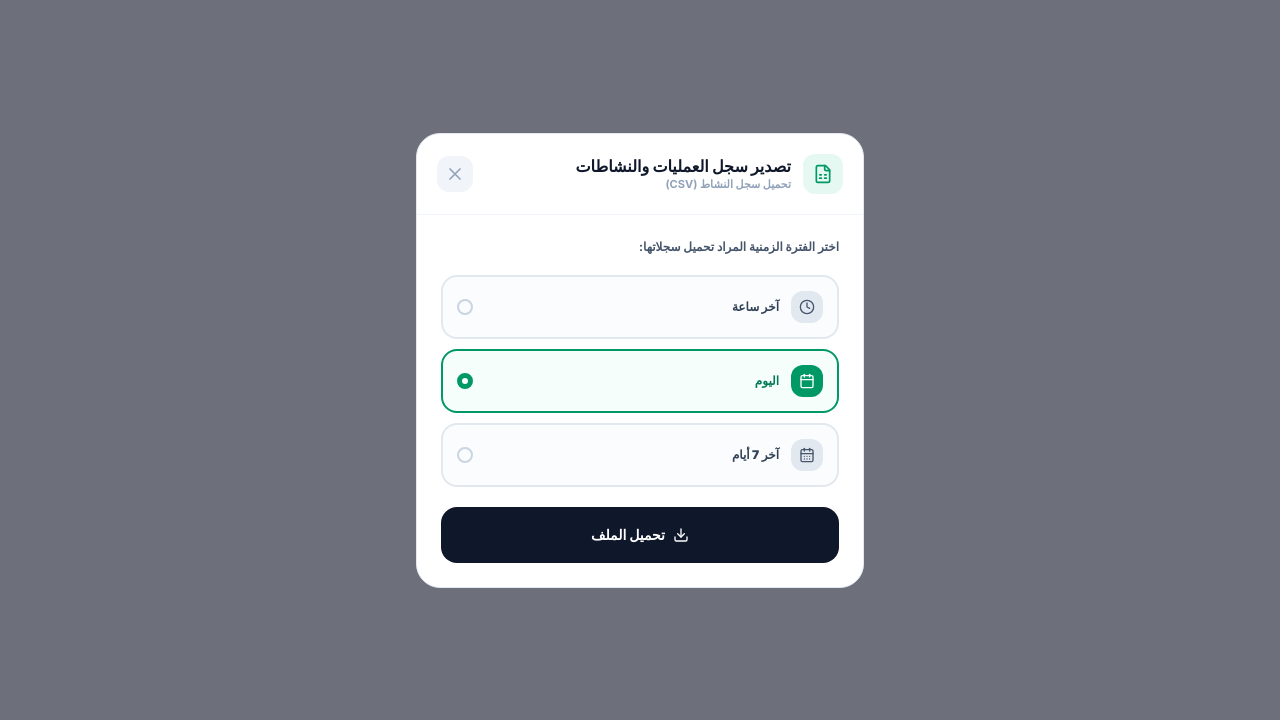
Test: ActivityLogExportModal Arabic-only export › exports active credit-grant activity with Arabic labels and filename
The image size is (1280, 720).
Click the button "تحميل الملف". click: [640, 534]
box: [441,506,839,562]
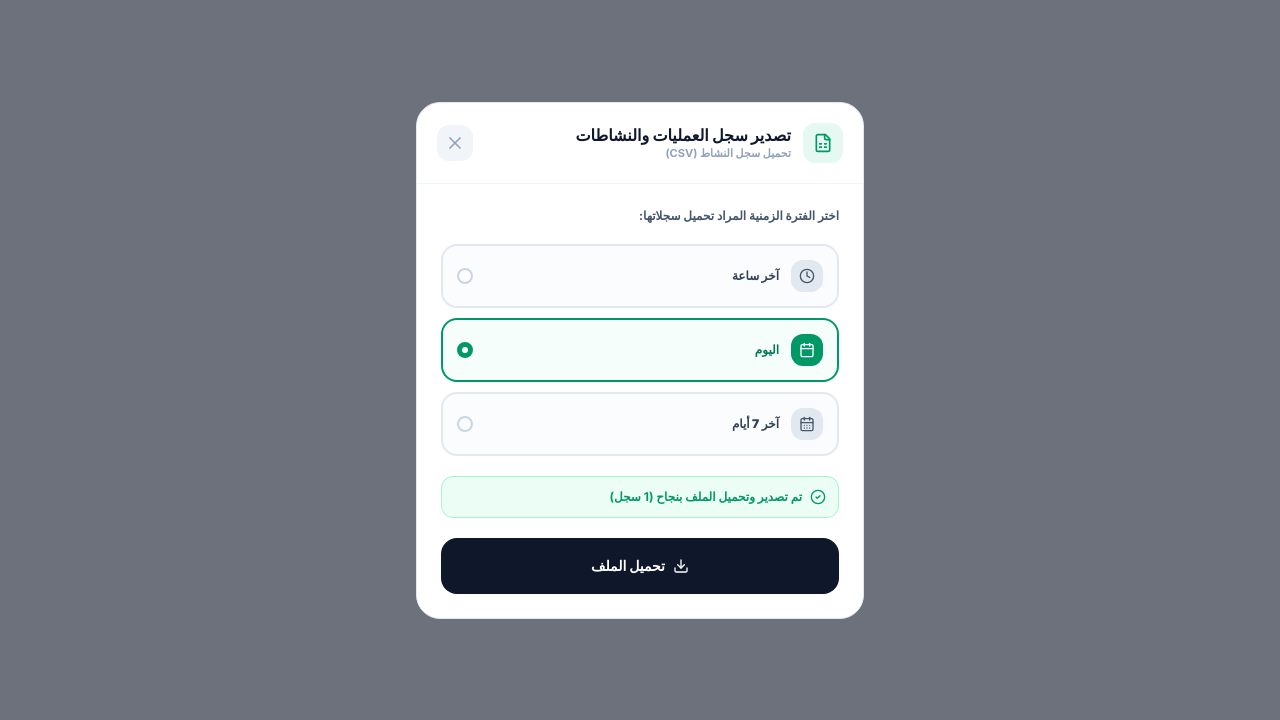
expect the text "تم تصدير وتحميل الملف بنجاح (1 سجل)" is shown: met, box [610,488,802,504]
